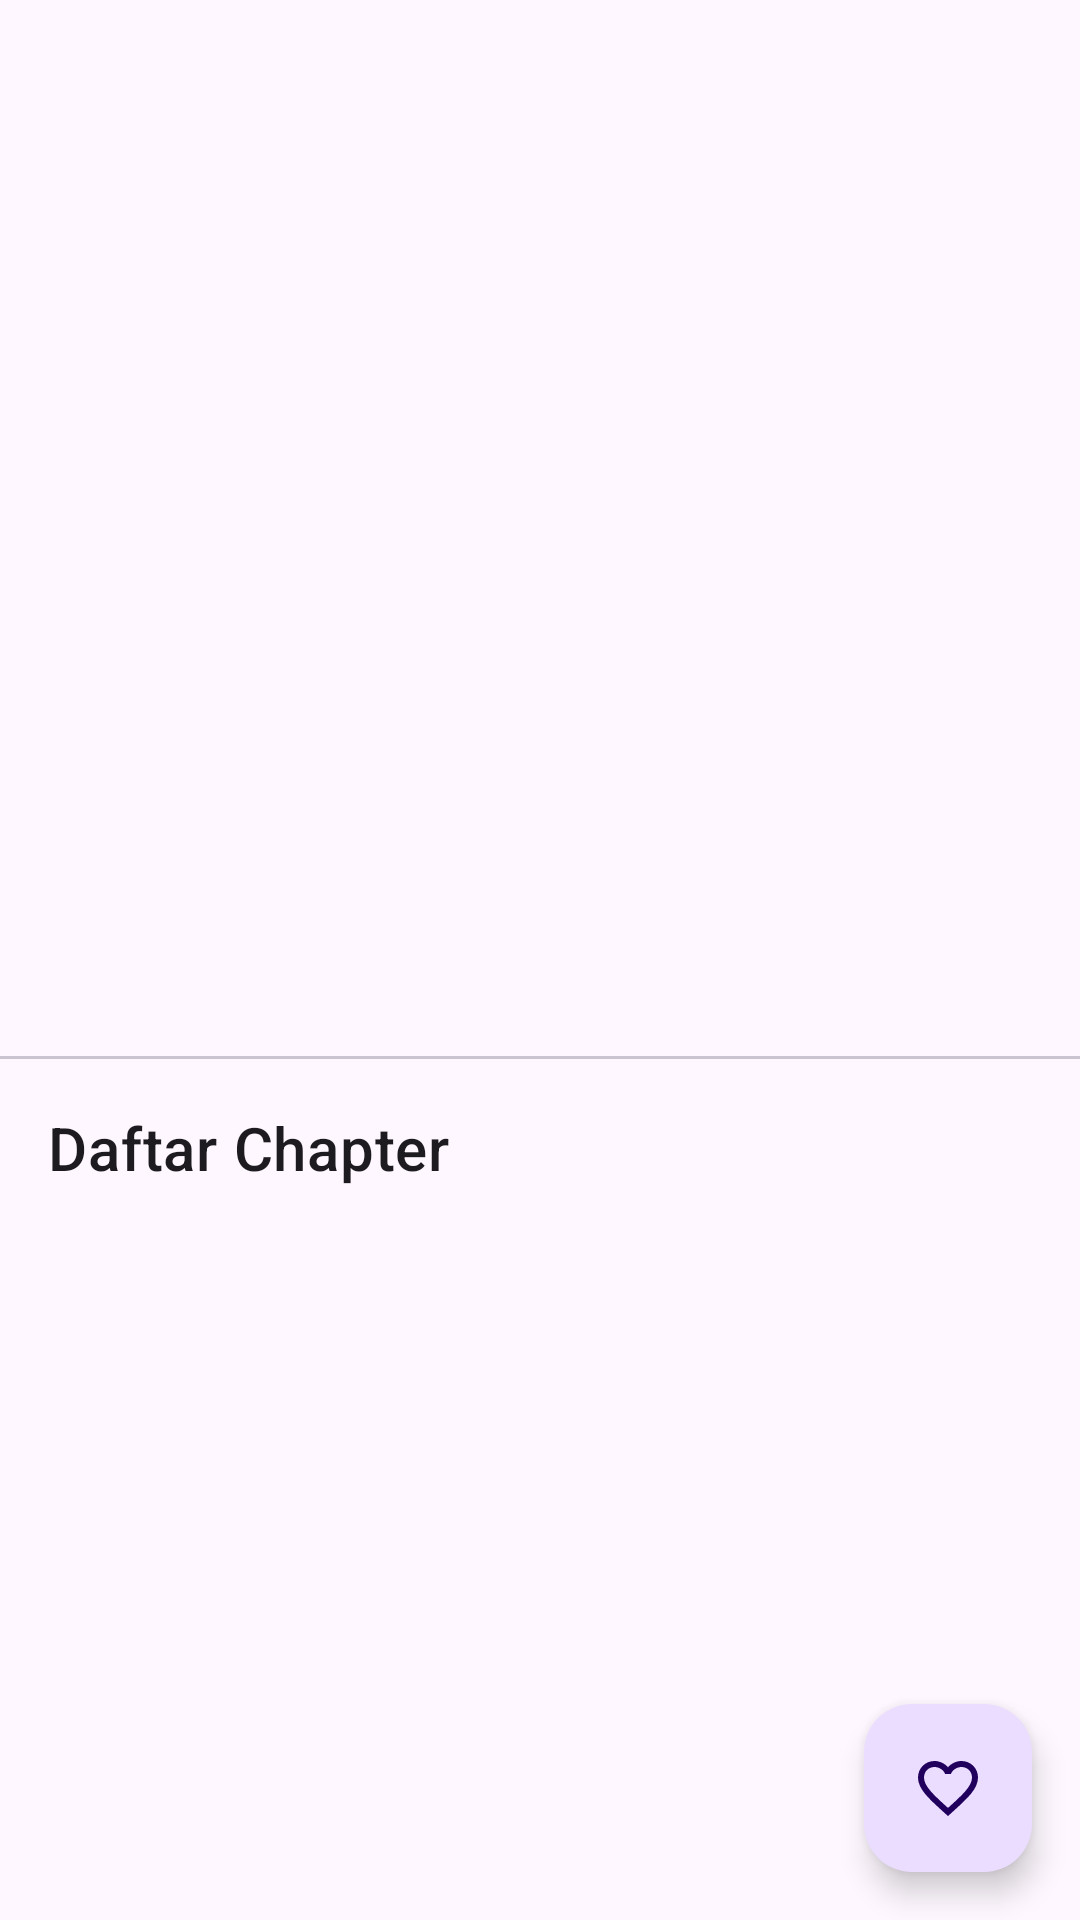

Named icons in this screenshot (1080 x 1920) and their bounding boxes, (x1, y1, x2, y2):
favorite border: (864, 1704, 1032, 1872)
